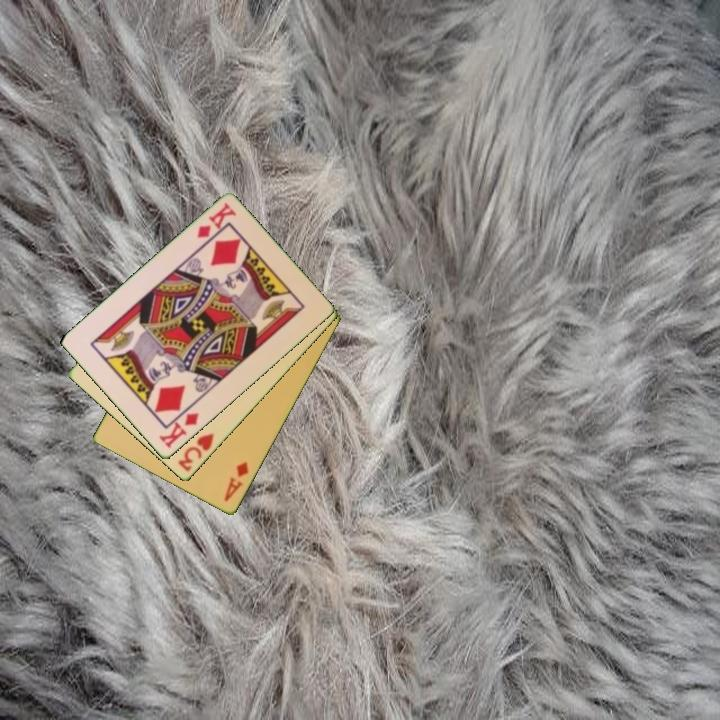3h: (174, 430, 217, 475)
Ad: (220, 458, 252, 505)
Kd: (155, 402, 202, 451), (193, 199, 239, 241)
